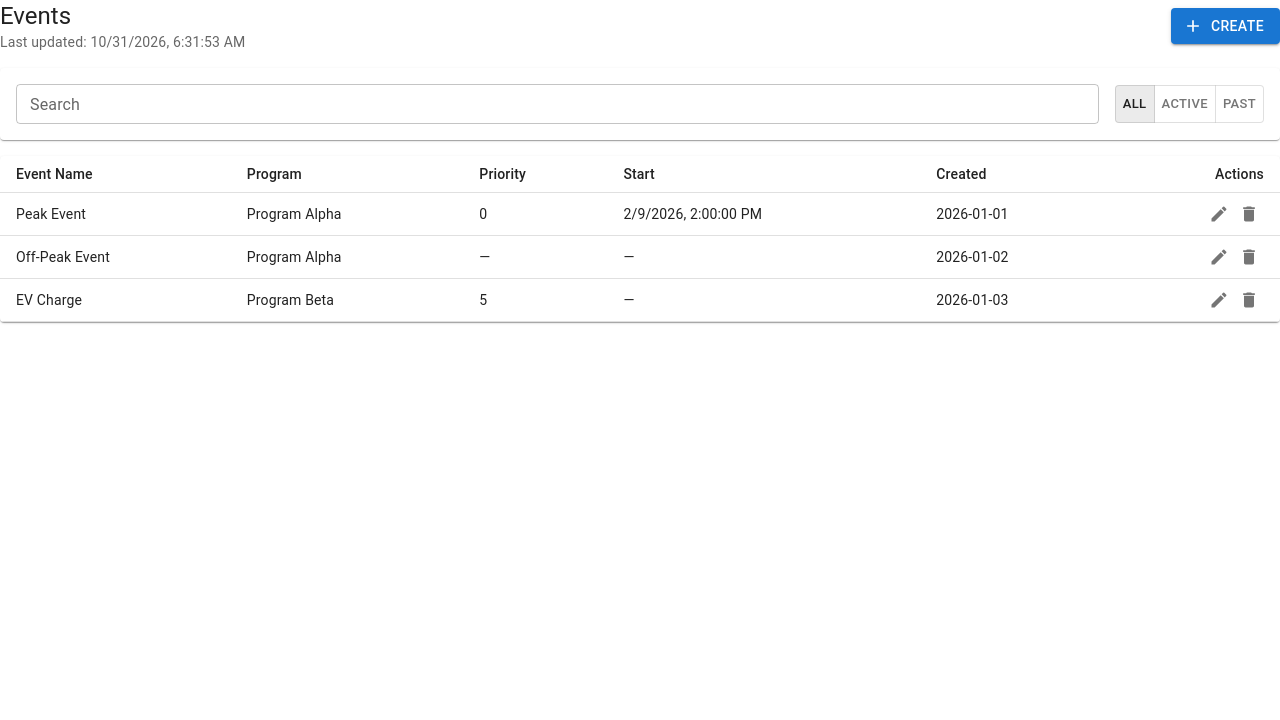
Test: EventsPage › opens confirm dialog on delete click
Click the button with test id "delete-event-e1": coordinates (1249, 214) [1234, 199, 1264, 229]
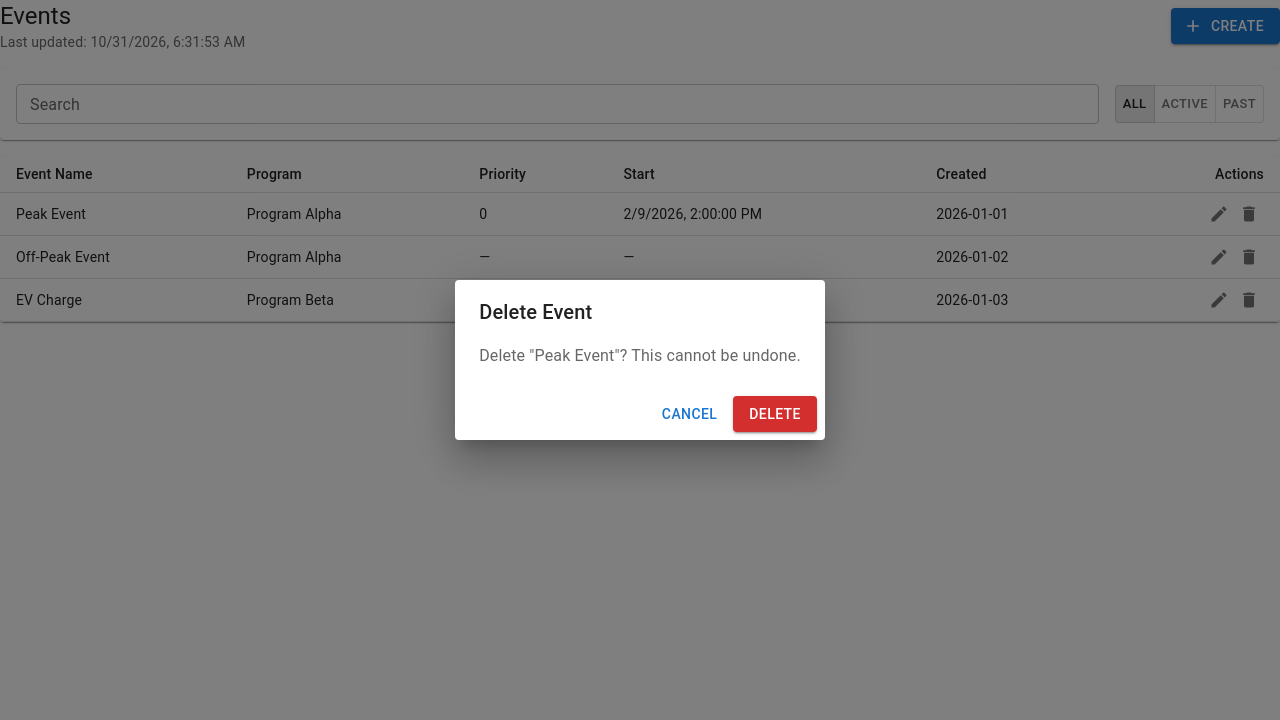
Result: the element with test id "confirm-dialog" is shown
